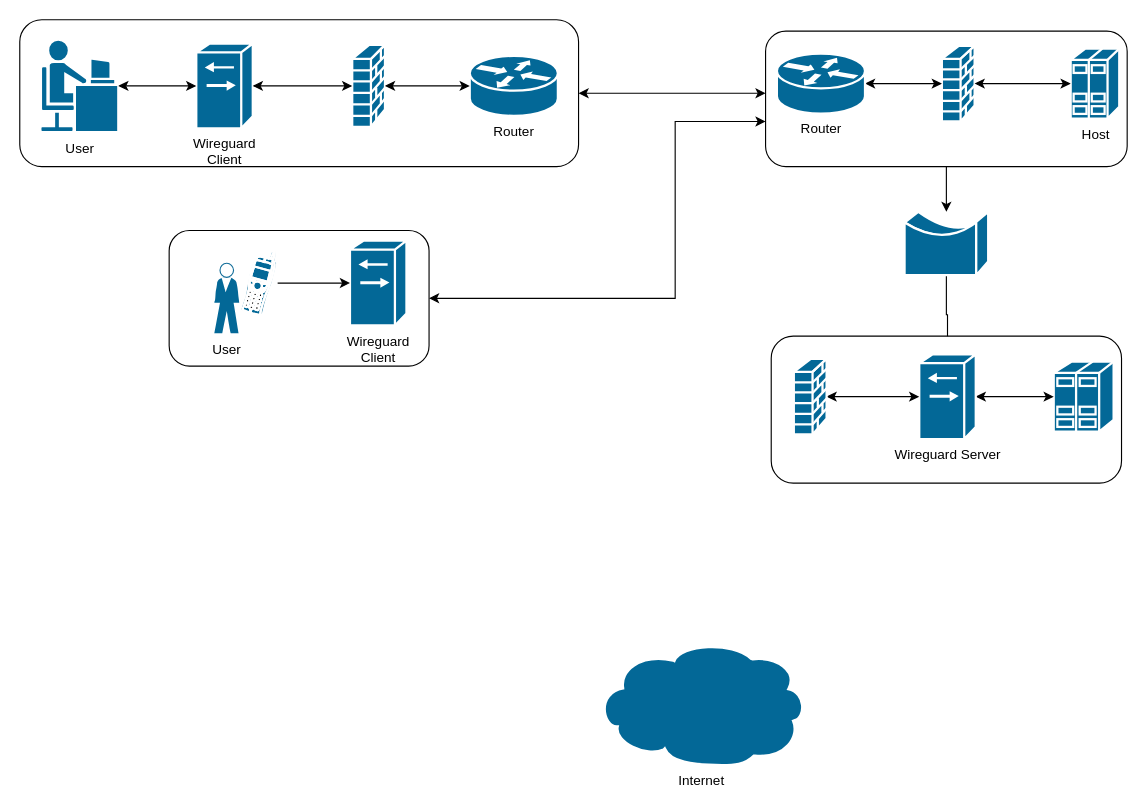
This 1147x809 diagram has some shape labels left out. Each missing label, with the box of its shape:
Client Firewall: (351, 43, 386, 127)
Docker: (903, 210, 989, 276)
Host Firewall: (940, 44, 975, 122)
Server: (1052, 360, 1114, 432)
Server Firewall: (792, 357, 827, 435)
